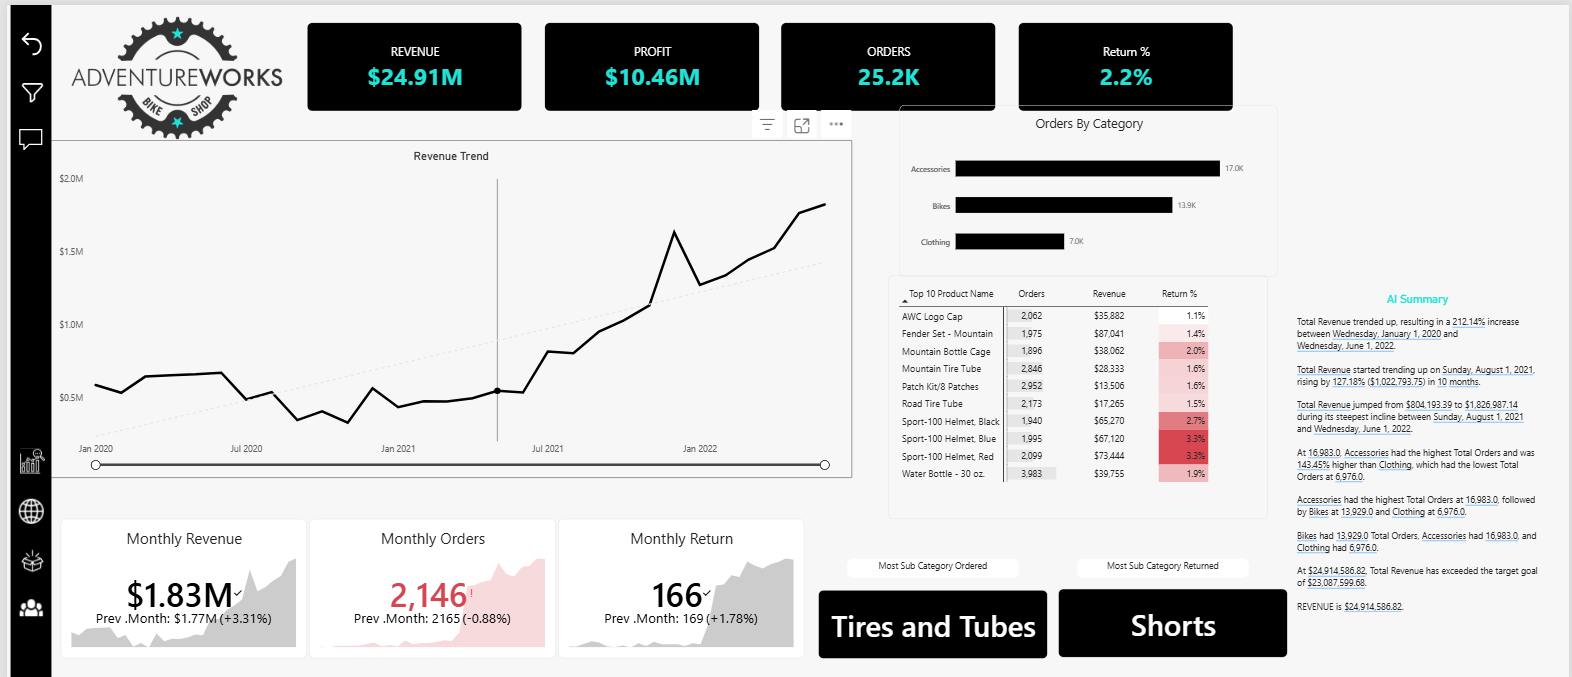

The page's visual inventory and layout, read from the dashboard file:
{"tool":"powerbi","page":{"name":"Over View ","canvas":[2500,1080],"ordinal":15},"visuals":[{"type":"shape","title":"Nav Bar","box":[6,0,65,1080],"z":0,"group":"g5"},{"type":"image","title":"Logo","box":[66.7,0,413.3,233.3],"z":0},{"type":"cardVisual","title":"Revenue","fields":{"Data":["Measure List.Total Revenue"]},"box":[480,27.5,344.2,142.5],"z":0,"group":"g1"},{"type":"kpi","title":"Monthly Revenue","fields":{"Goal":["Measure List.Last Month Revenue"],"Indicator":["Measure List.Total Revenue"],"TrendLine":["Calendar Lookup.Start of month"]},"box":[86.6,822.5,393.9,222.9],"z":0,"group":"g4"},{"type":"textbox","box":[1713.3,886.7,275,30],"z":0,"group":"g2"},{"type":"cardVisual","fields":{"Data":["Min(Product Subcategories Lookup.SubcategoryName)"]},"box":[1297.5,937.5,367.9,110.4],"z":0,"group":"g3"},{"type":"group","id":"g1","title":"KPI","box":[480,27.5,1482.5,142.5],"z":1000},{"type":"cardVisual","title":"Profit","fields":{"Data":["Measure List.Total Profit"]},"box":[859.4,27.5,344.2,142.5],"z":1000,"group":"g1"},{"type":"actionButton","title":"Reset Icon","box":[6,38.9,67.5,45],"z":1000,"group":"g5"},{"type":"kpi","title":"Monthly Orders","fields":{"Goal":["Measure List.Previos Month Orders"],"Indicator":["Measure List.Total Orders"],"TrendLine":["Calendar Lookup.Start of month"]},"box":[484.6,822.5,393.9,222.9],"z":1000,"group":"g4"},{"type":"textbox","box":[1343.3,886.7,275,30],"z":1000,"group":"g3"},{"type":"cardVisual","fields":{"Data":["Min(Product Subcategories Lookup.SubcategoryName)"]},"box":[1682.5,935,367.9,110.4],"z":1000,"group":"g2"},{"type":"cardVisual","title":"Total Orders","fields":{"Data":["Measure List.Total Orders"]},"box":[1238.9,27.5,344.2,142.5],"z":2000,"group":"g1"},{"type":"actionButton","title":" Filter Icon","box":[8,116,66,40],"z":2000,"group":"g5"},{"type":"clusteredBarChart","title":"Orders By Category","fields":{"Category":["Product Categories Lookup.CategoryName"],"Y":["Measure List.Total Orders"]},"box":[1427.5,160,605,275],"z":2000},{"type":"kpi","title":"Monthly Return","fields":{"Goal":["Measure List.Previos Month Return"],"Indicator":["Measure List.Total Return"],"TrendLine":["Calendar Lookup.Start of month"]},"box":[882.5,822.5,393.9,222.9],"z":2000,"group":"g4"},{"type":"cardVisual","title":"Return Rate","fields":{"Data":["Measure List.Return Rate"]},"box":[1618.3,27.5,344.2,142.5],"z":3000,"group":"g1"},{"type":"lineChart","title":"Revenue Trend","fields":{"Category":["Calendar Lookup.Start of month"],"Y":["Measure List.Total Revenue"]},"box":[65,215,1287.5,542.5],"z":3000},{"type":"actionButton","title":"Map_icon","box":[6,782,66,56],"z":3000,"group":"g5"},{"type":"pivotTable","title":"Top Ten Product Matrix","fields":{"Rows":["Product Lookup.ProductName"],"Values":["Measure List.Total Orders","Measure List.Total Revenue","Measure List.Return Rate"]},"box":[1410,432.5,607.5,390],"z":4000},{"type":"actionButton","title":"insights_Icon","box":[8,702,66,56],"z":4000,"group":"g5"},{"type":"actionButton","title":"Product Icon","box":[8,862,66,54],"z":5000,"group":"g5"},{"type":"group","id":"g2","title":"Most Sub Category Ordered","box":[1682.5,886.7,367.9,158.7],"z":5000},{"type":"group","id":"g3","title":"Most Sub Category Retured","box":[1297.5,886.7,367.9,161.2],"z":6000},{"type":"actionButton","title":" Customer Icon","box":[6,938,66,52],"z":6000,"group":"g5"},{"type":"actionButton","title":"Q&A Icon","box":[10.7,191.4,56,39.7],"z":6500,"group":"g5"},{"type":"group","id":"g4","title":"Monthly KPIS","box":[86.6,822.5,1189.8,222.9],"z":7000},{"type":"group","id":"g5","title":"Nav Bar","box":[6,0,68,1080],"z":8000},{"type":"textbox","title":"AI Summary ","box":[2064,460,386,630],"z":11000}]}

Visuals, with their boxes on the page's 2500x1080 design canvas (x1, y1, x2, y2). These are canvas units, not pixel positions in the 1572x677 screenshot, which may show the page scaled, cropped or inside an application window:
"Nav Bar" shape: (left=6, top=0, right=71, bottom=1080)
"Logo" image: (left=67, top=0, right=480, bottom=233)
"Revenue" cardVisual: (left=480, top=28, right=824, bottom=170)
"Monthly Revenue" kpi: (left=87, top=822, right=480, bottom=1045)
textbox: (left=1713, top=887, right=1988, bottom=917)
cardVisual - Min(Product Subcategories Lookup.SubcategoryName): (left=1298, top=938, right=1665, bottom=1048)
"KPI" group: (left=480, top=28, right=1962, bottom=170)
"Profit" cardVisual: (left=859, top=28, right=1204, bottom=170)
"Reset Icon" actionButton: (left=6, top=39, right=74, bottom=84)
"Monthly Orders" kpi: (left=485, top=822, right=878, bottom=1045)
textbox: (left=1343, top=887, right=1618, bottom=917)
cardVisual - Min(Product Subcategories Lookup.SubcategoryName): (left=1682, top=935, right=2050, bottom=1045)
"Total Orders" cardVisual: (left=1239, top=28, right=1583, bottom=170)
" Filter Icon" actionButton: (left=8, top=116, right=74, bottom=156)
"Orders By Category" clusteredBarChart: (left=1428, top=160, right=2032, bottom=435)
"Monthly Return" kpi: (left=882, top=822, right=1276, bottom=1045)
"Return Rate" cardVisual: (left=1618, top=28, right=1962, bottom=170)
"Revenue Trend" lineChart: (left=65, top=215, right=1352, bottom=758)
"Map_icon" actionButton: (left=6, top=782, right=72, bottom=838)
"Top Ten Product Matrix" pivotTable: (left=1410, top=432, right=2018, bottom=822)
"insights_Icon" actionButton: (left=8, top=702, right=74, bottom=758)
"Product Icon" actionButton: (left=8, top=862, right=74, bottom=916)
"Most Sub Category Ordered" group: (left=1682, top=887, right=2050, bottom=1045)
"Most Sub Category Retured" group: (left=1298, top=887, right=1665, bottom=1048)
" Customer Icon" actionButton: (left=6, top=938, right=72, bottom=990)
"Q&A Icon" actionButton: (left=11, top=191, right=67, bottom=231)
"Monthly KPIS" group: (left=87, top=822, right=1276, bottom=1045)
"Nav Bar" group: (left=6, top=0, right=74, bottom=1080)
"AI Summary " textbox: (left=2064, top=460, right=2450, bottom=1090)
